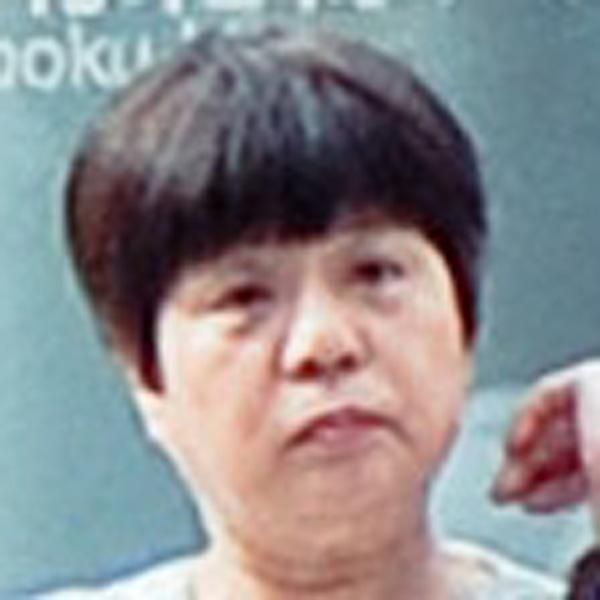Eyes: (208, 272, 281, 319), (336, 249, 407, 296)
